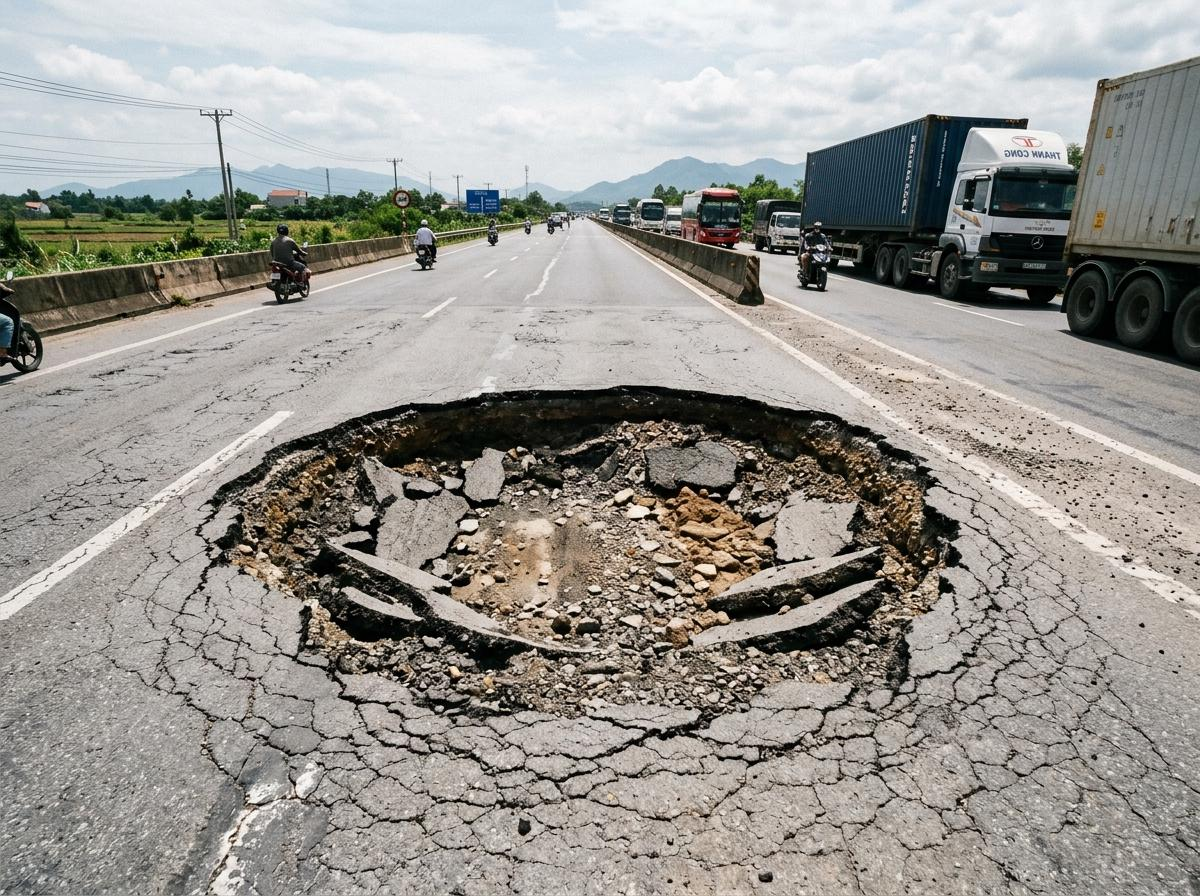POTHOLE: (336, 385, 912, 726)
